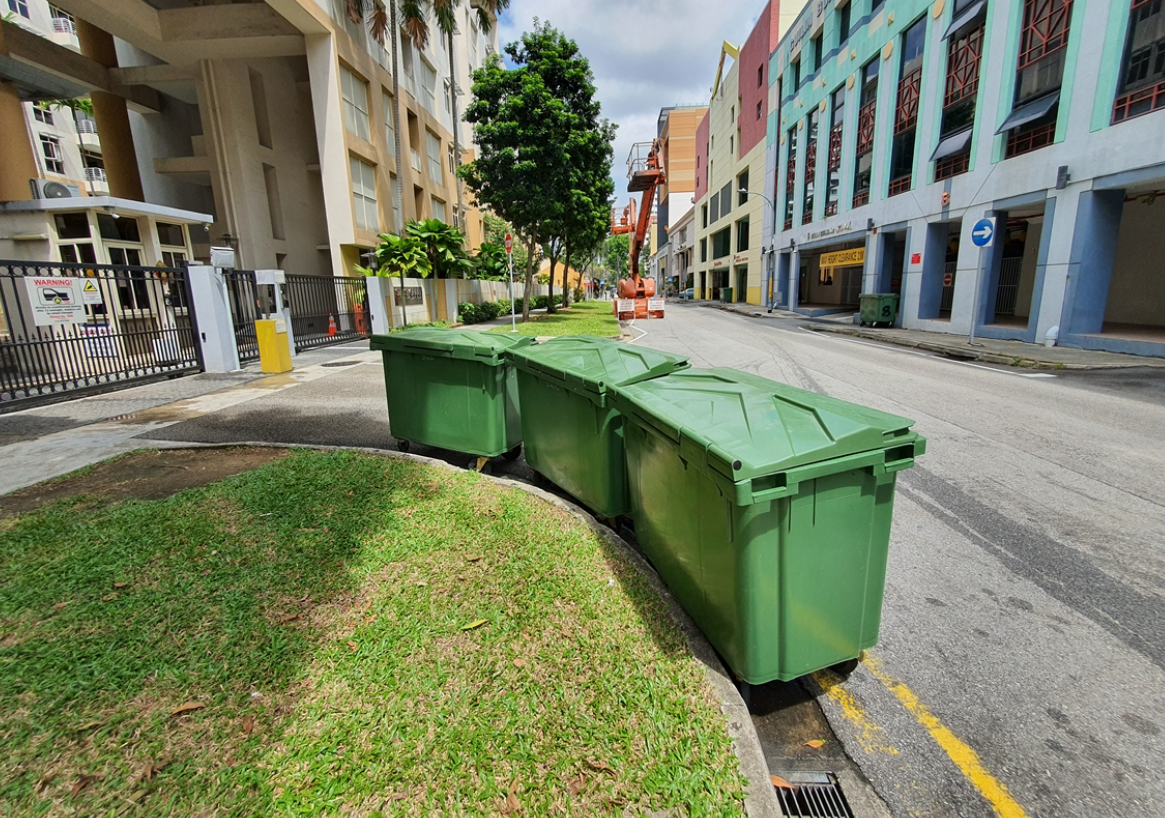bin_empty: (614, 368, 924, 683), (511, 336, 689, 517), (371, 327, 532, 458), (860, 293, 898, 324), (721, 288, 732, 302)
